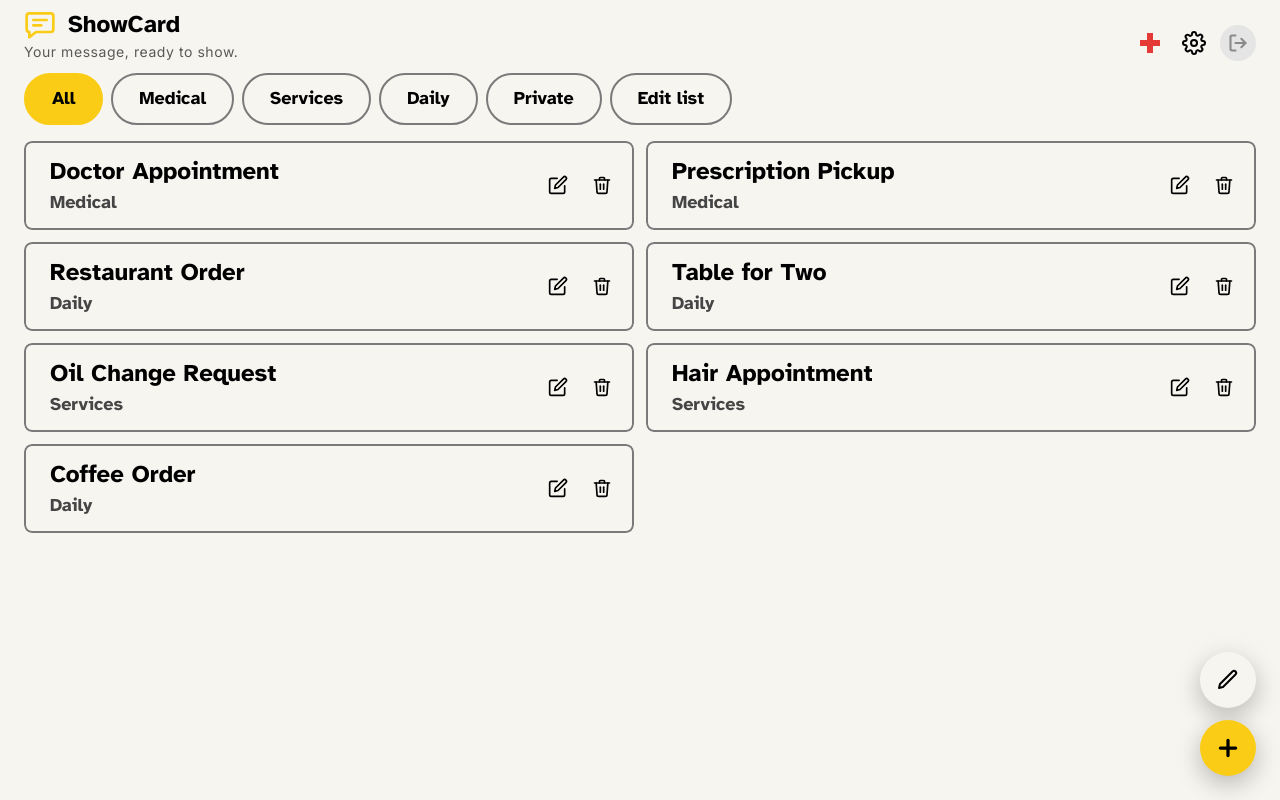
App: first run › shows emergency cards in the Emergency category
This screenshot has width=1280, height=800.
Click the button named "Emergency" at (1150, 43), box [1132,25,1168,61]
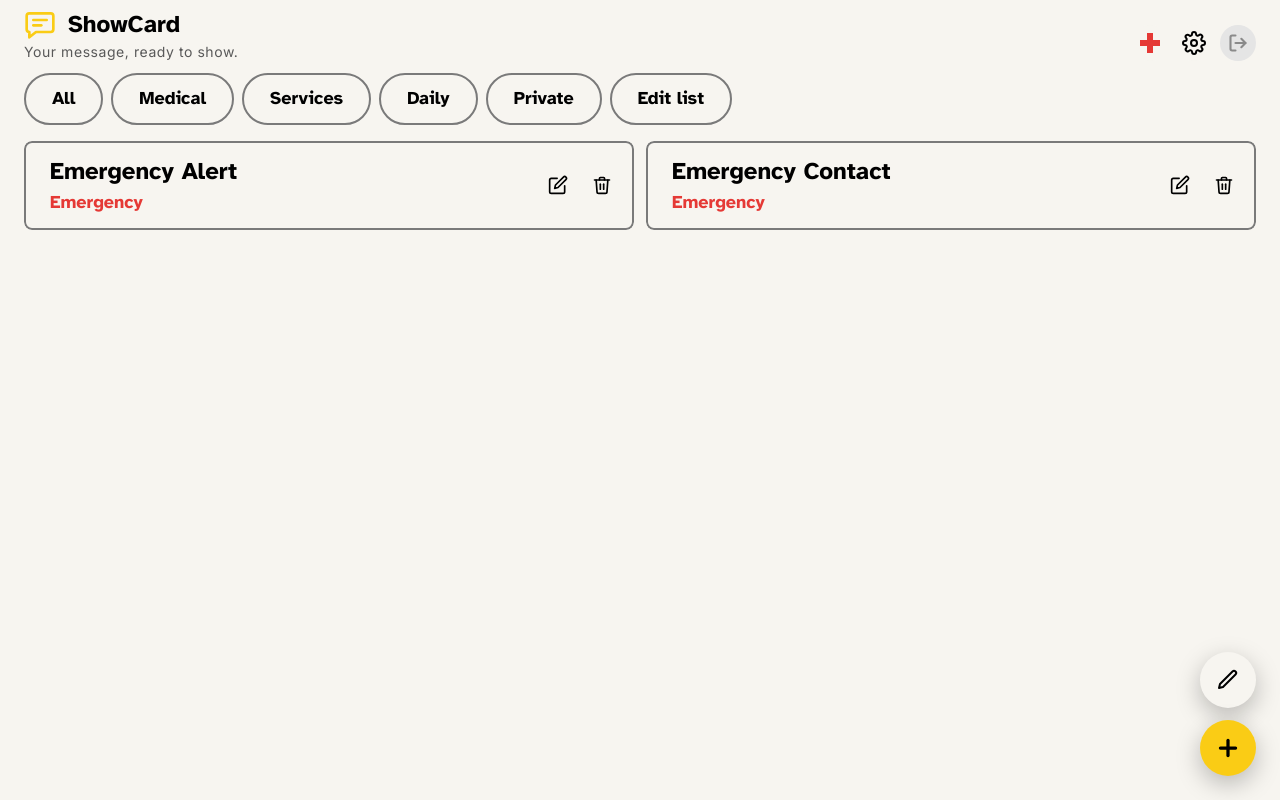
expect the heading "Emergency Alert" is shown: met, box [50,156,237,186]
